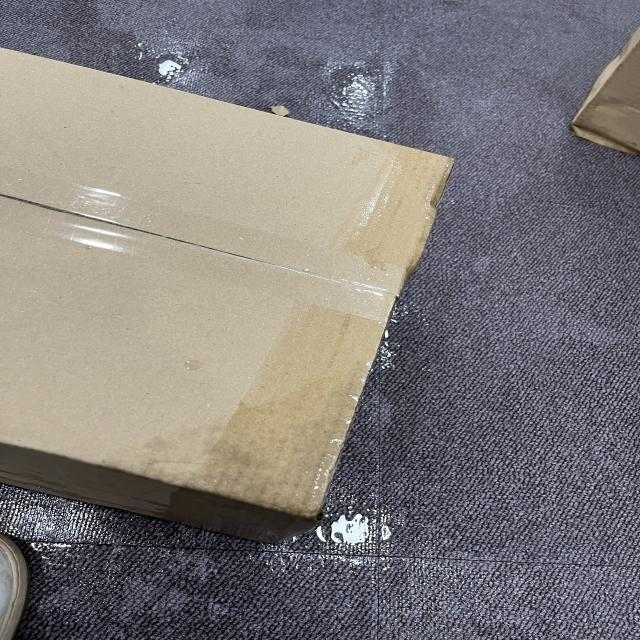wet: (168, 308, 386, 542), (356, 137, 464, 272)
